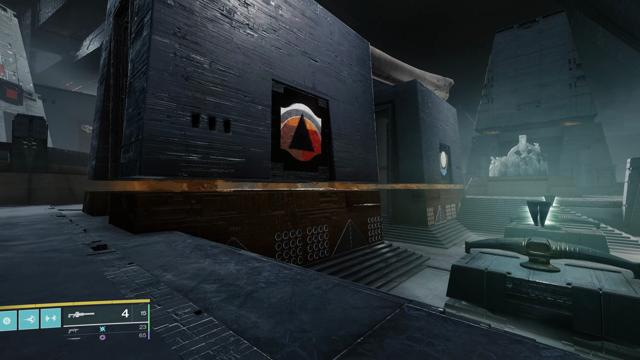pyramid: (281, 103, 322, 161)
traveler: (439, 151, 448, 176)
